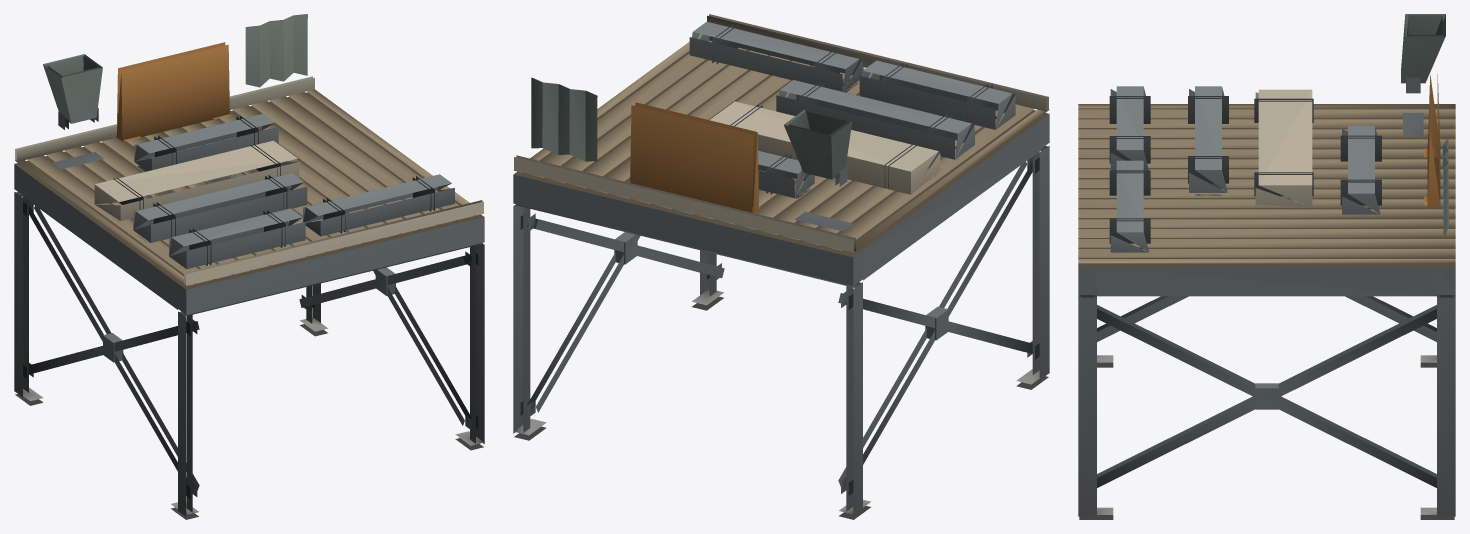
File: gantry.lod.glb
The picture shows the model from 3 angles, left to right: view 1: azimuth 30°, elevation 25°; view 2: azimuth 150°, elevation 25°; view 3: azimuth 270°, elevation 25°; orthographic projection. The views are drawn at different scales.
Visible parts, largest first — view 1: gantry; view 2: gantry; view 3: gantry.
Boxes of the visible parts, x1,y1,x2,y2 form: gantry: [14, 14, 484, 519]; gantry: [513, 14, 1049, 519]; gantry: [1078, 14, 1455, 519].
Bounding box in the file's own units: 4.8 × 5.04 × 4.8.
